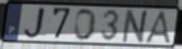3: (100, 9, 121, 43)
7: (52, 6, 72, 41)
A: (143, 10, 174, 46)
J: (22, 6, 48, 42)
N: (121, 9, 152, 45)
O: (73, 8, 98, 42)
